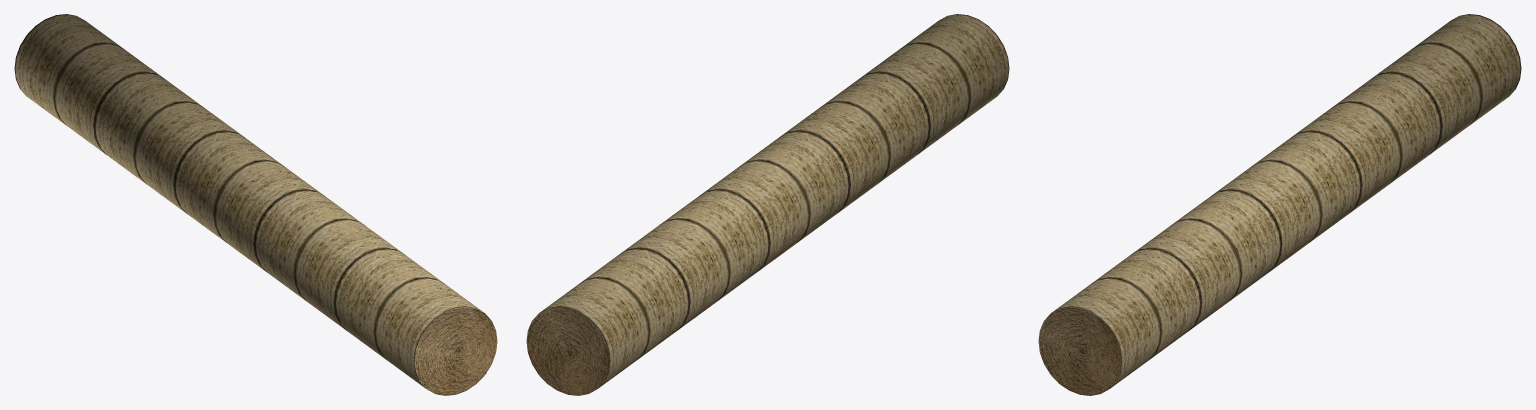
File: hay-bale-straw-1x10-cbj_LOD00.gltf
3 views of the same model, side by side, from view 1: azimuth 30°, elevation 25°; view 2: azimuth 150°, elevation 25°; view 3: azimuth 330°, elevation 25° (orthographic).
Visible parts, largest first — view 1: Cube; view 2: Cube; view 3: Cube.
Part boxes in pixels (box(x1,y1,x2,y2)): Cube: box(14, 14, 497, 395); Cube: box(526, 14, 1009, 395); Cube: box(1038, 14, 1521, 395).
Size of the model in its own units: 1.8 by 1.8 by 15.
